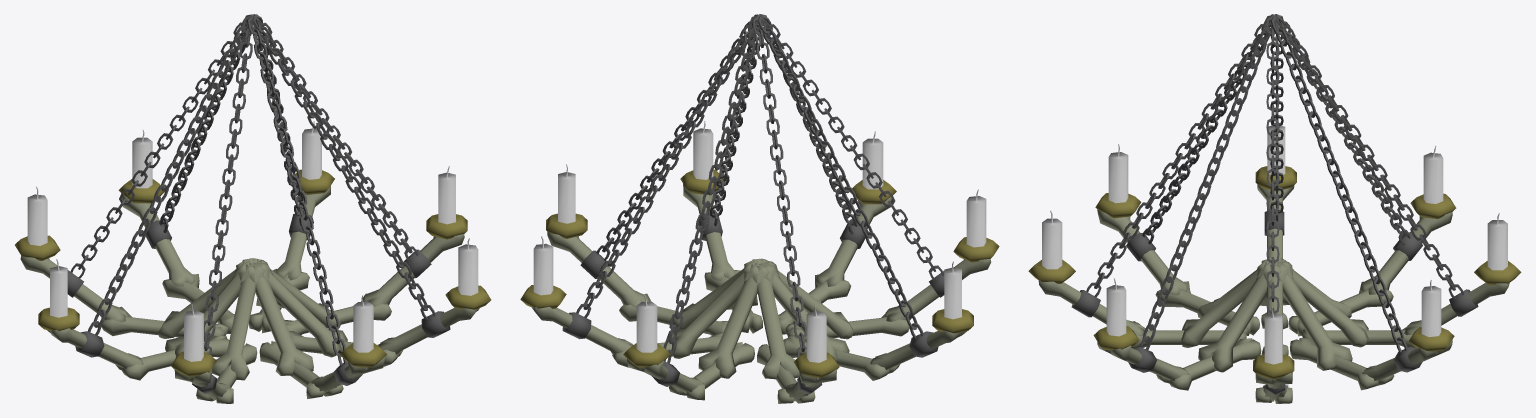
File: juttu.fbx
The picture shows the model from 3 angles, left to right: view 1: azimuth 30°, elevation 25°; view 2: azimuth 150°, elevation 25°; view 3: azimuth 270°, elevation 25°; orthographic projection.
Visible parts, largest first — view 1: Chandelier; view 2: Chandelier; view 3: Chandelier.
Boxes of the visible parts, x1,y1,x2,y2 form: Chandelier: (15, 14, 491, 403); Chandelier: (520, 14, 999, 403); Chandelier: (1028, 14, 1521, 403).
Bounding box in the file's own units: 2832 × 2093 × 2832.
